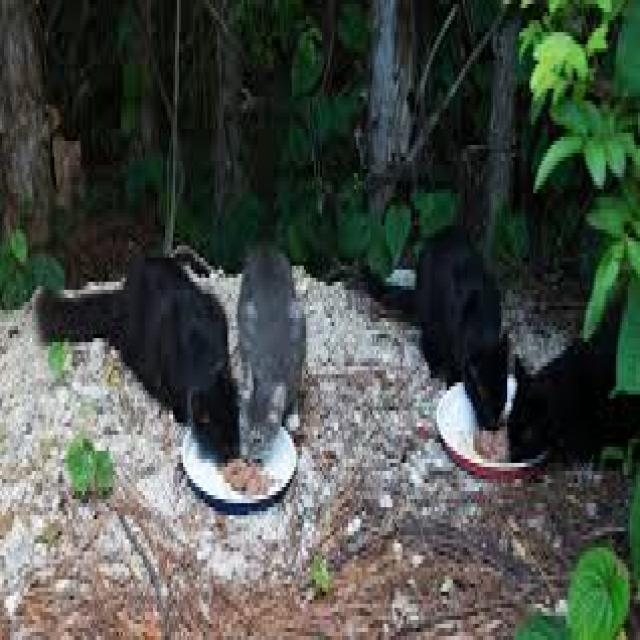cat: (35, 257, 239, 456), (355, 235, 507, 427), (507, 327, 640, 460), (240, 257, 305, 456)
